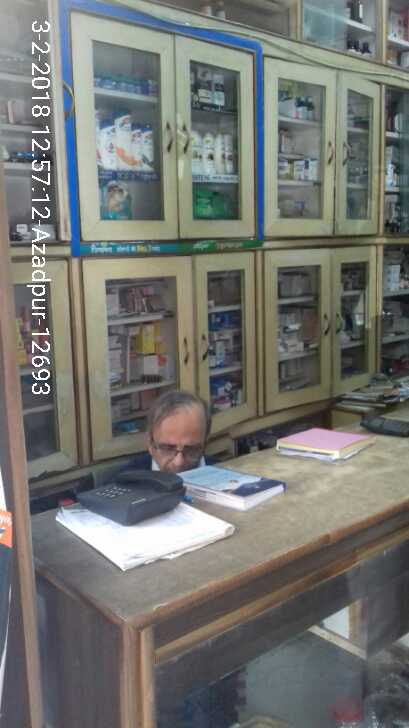vicks: (95, 75, 160, 95)
